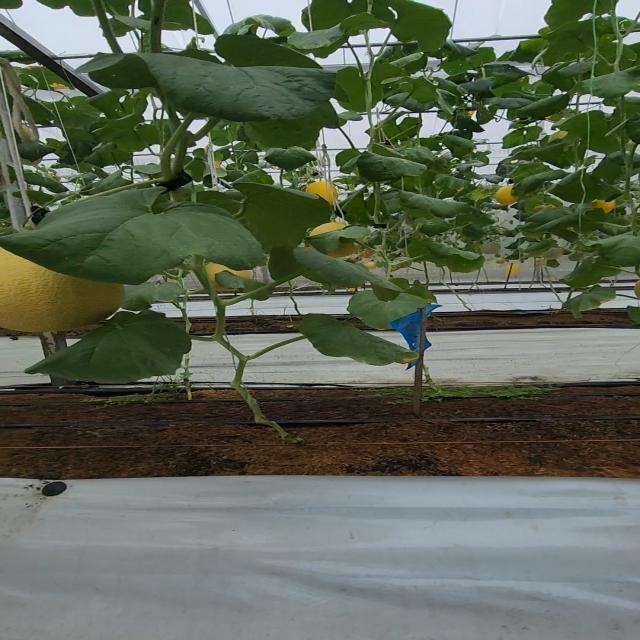Melon: (0, 242, 134, 335)
